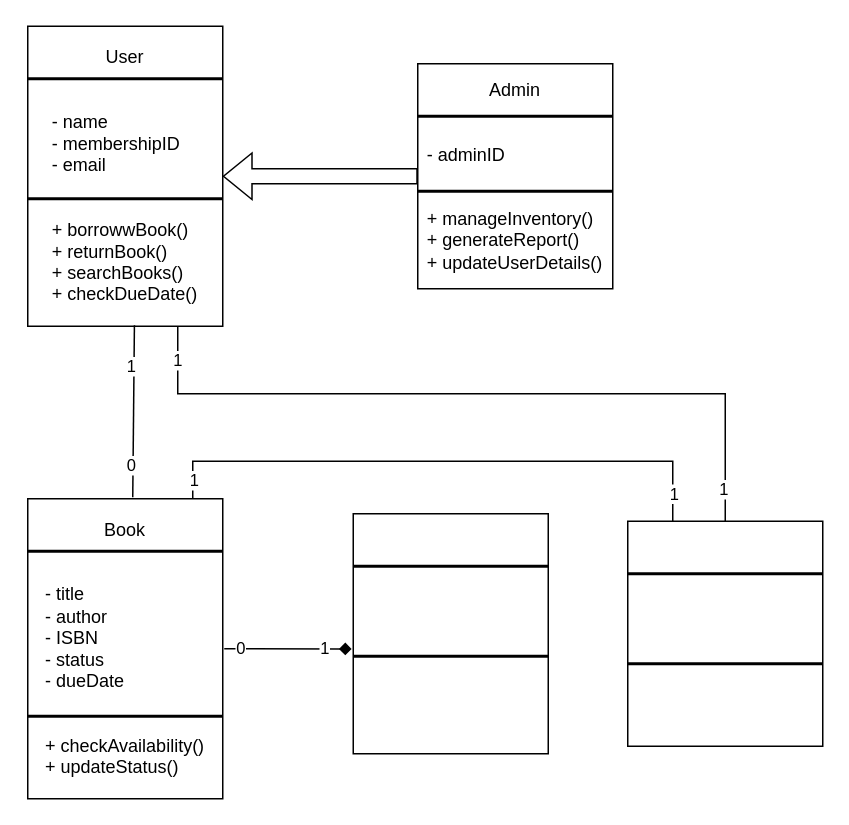
This 849x825 diagram has some shape labels left out. The shapes that lost their labels are listed below. From the top down, each one's centre as x and y in pixels, then its label:
[450,633]: Inventory - books[ ] - totalBooks + addBook() + removeBook() + updateBookInfo()
[724,633]: Loan - loanDate - dueDate + updateLoanStatus() + setLoanDates()
